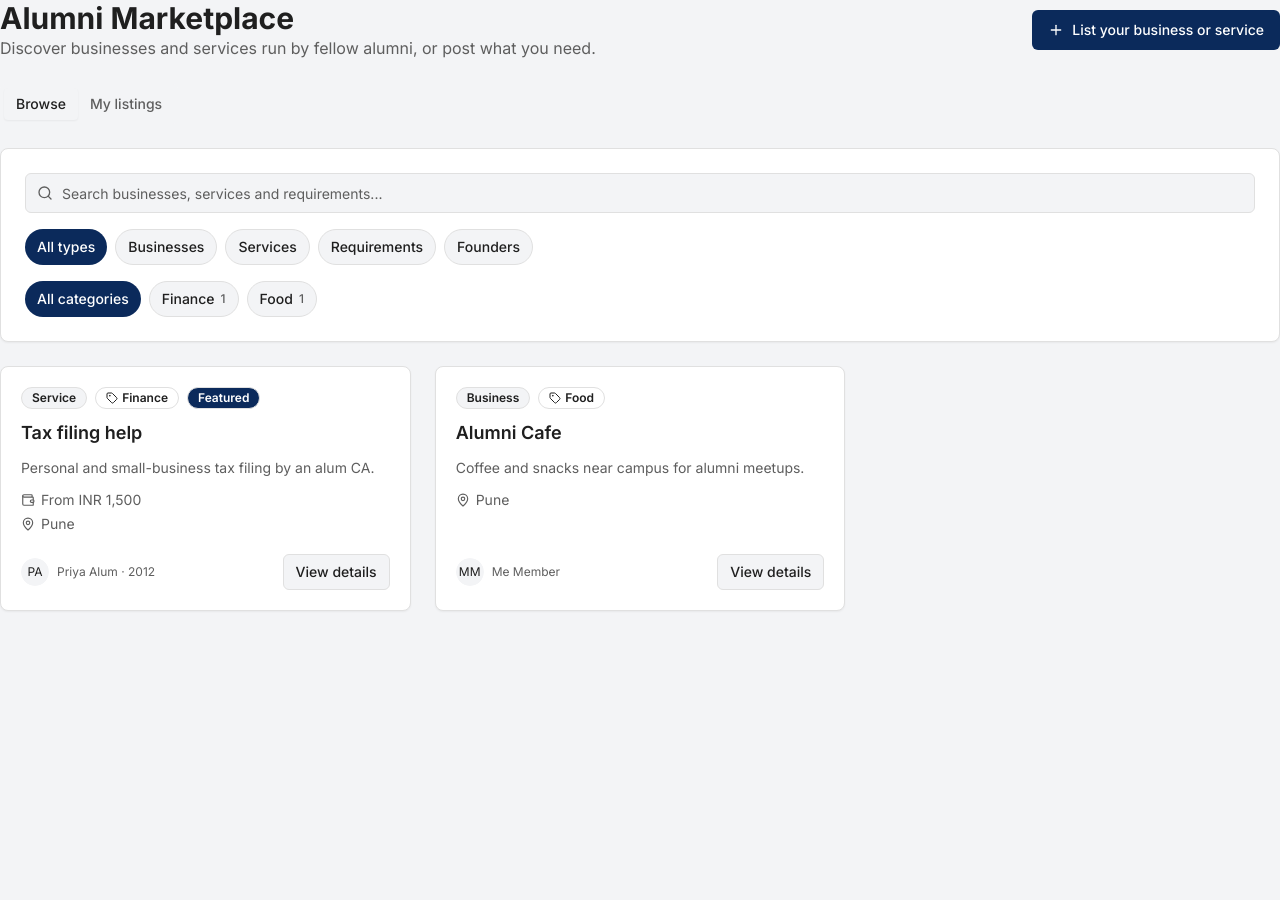
Marketplace page — browse › never renders a non-http website as a link
Click the button with aria-label "View details: Tax filing help" at (336, 572), box [283,554,390,590]
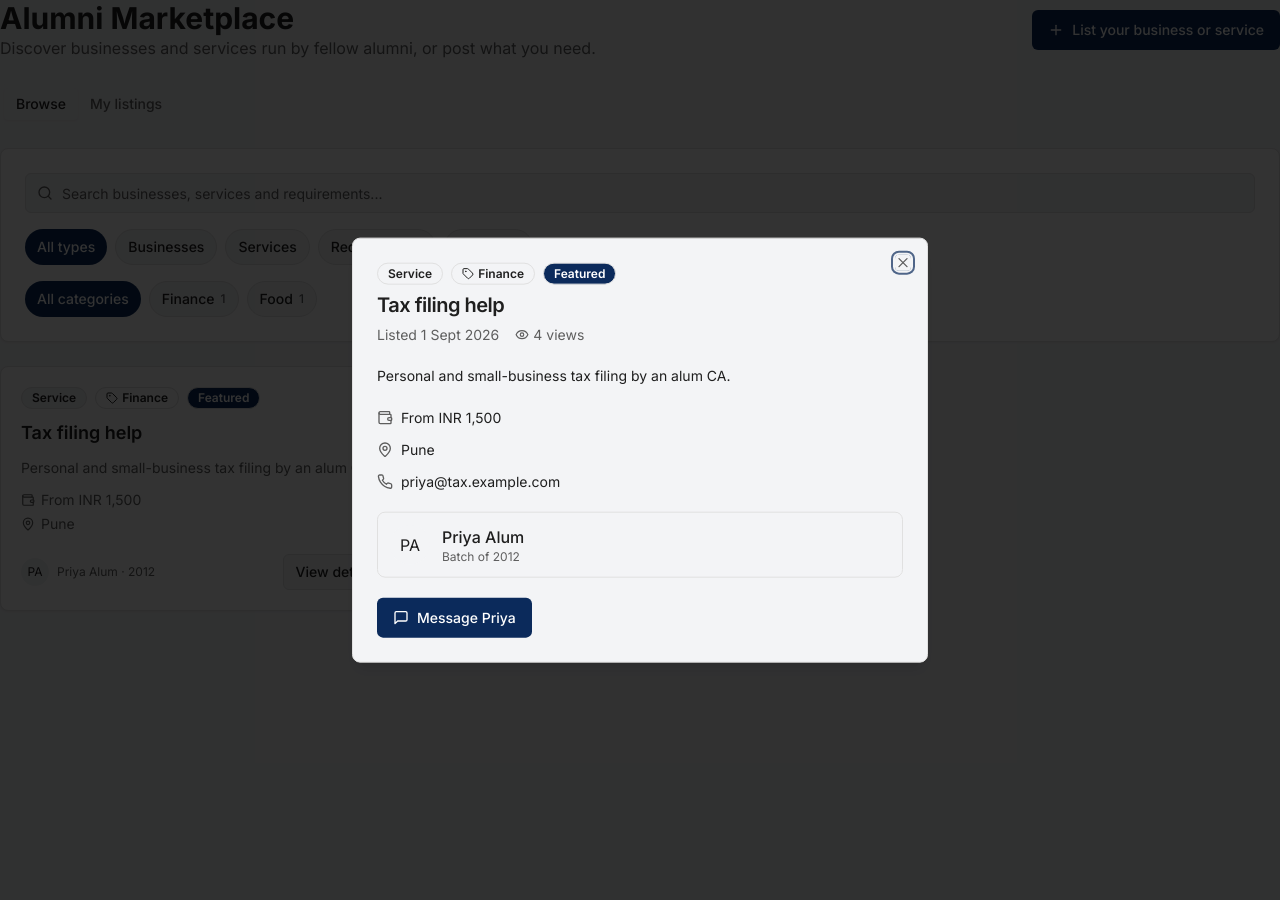
Now the text "priya@tax.example.com" is shown, box [401,471,560,491]
